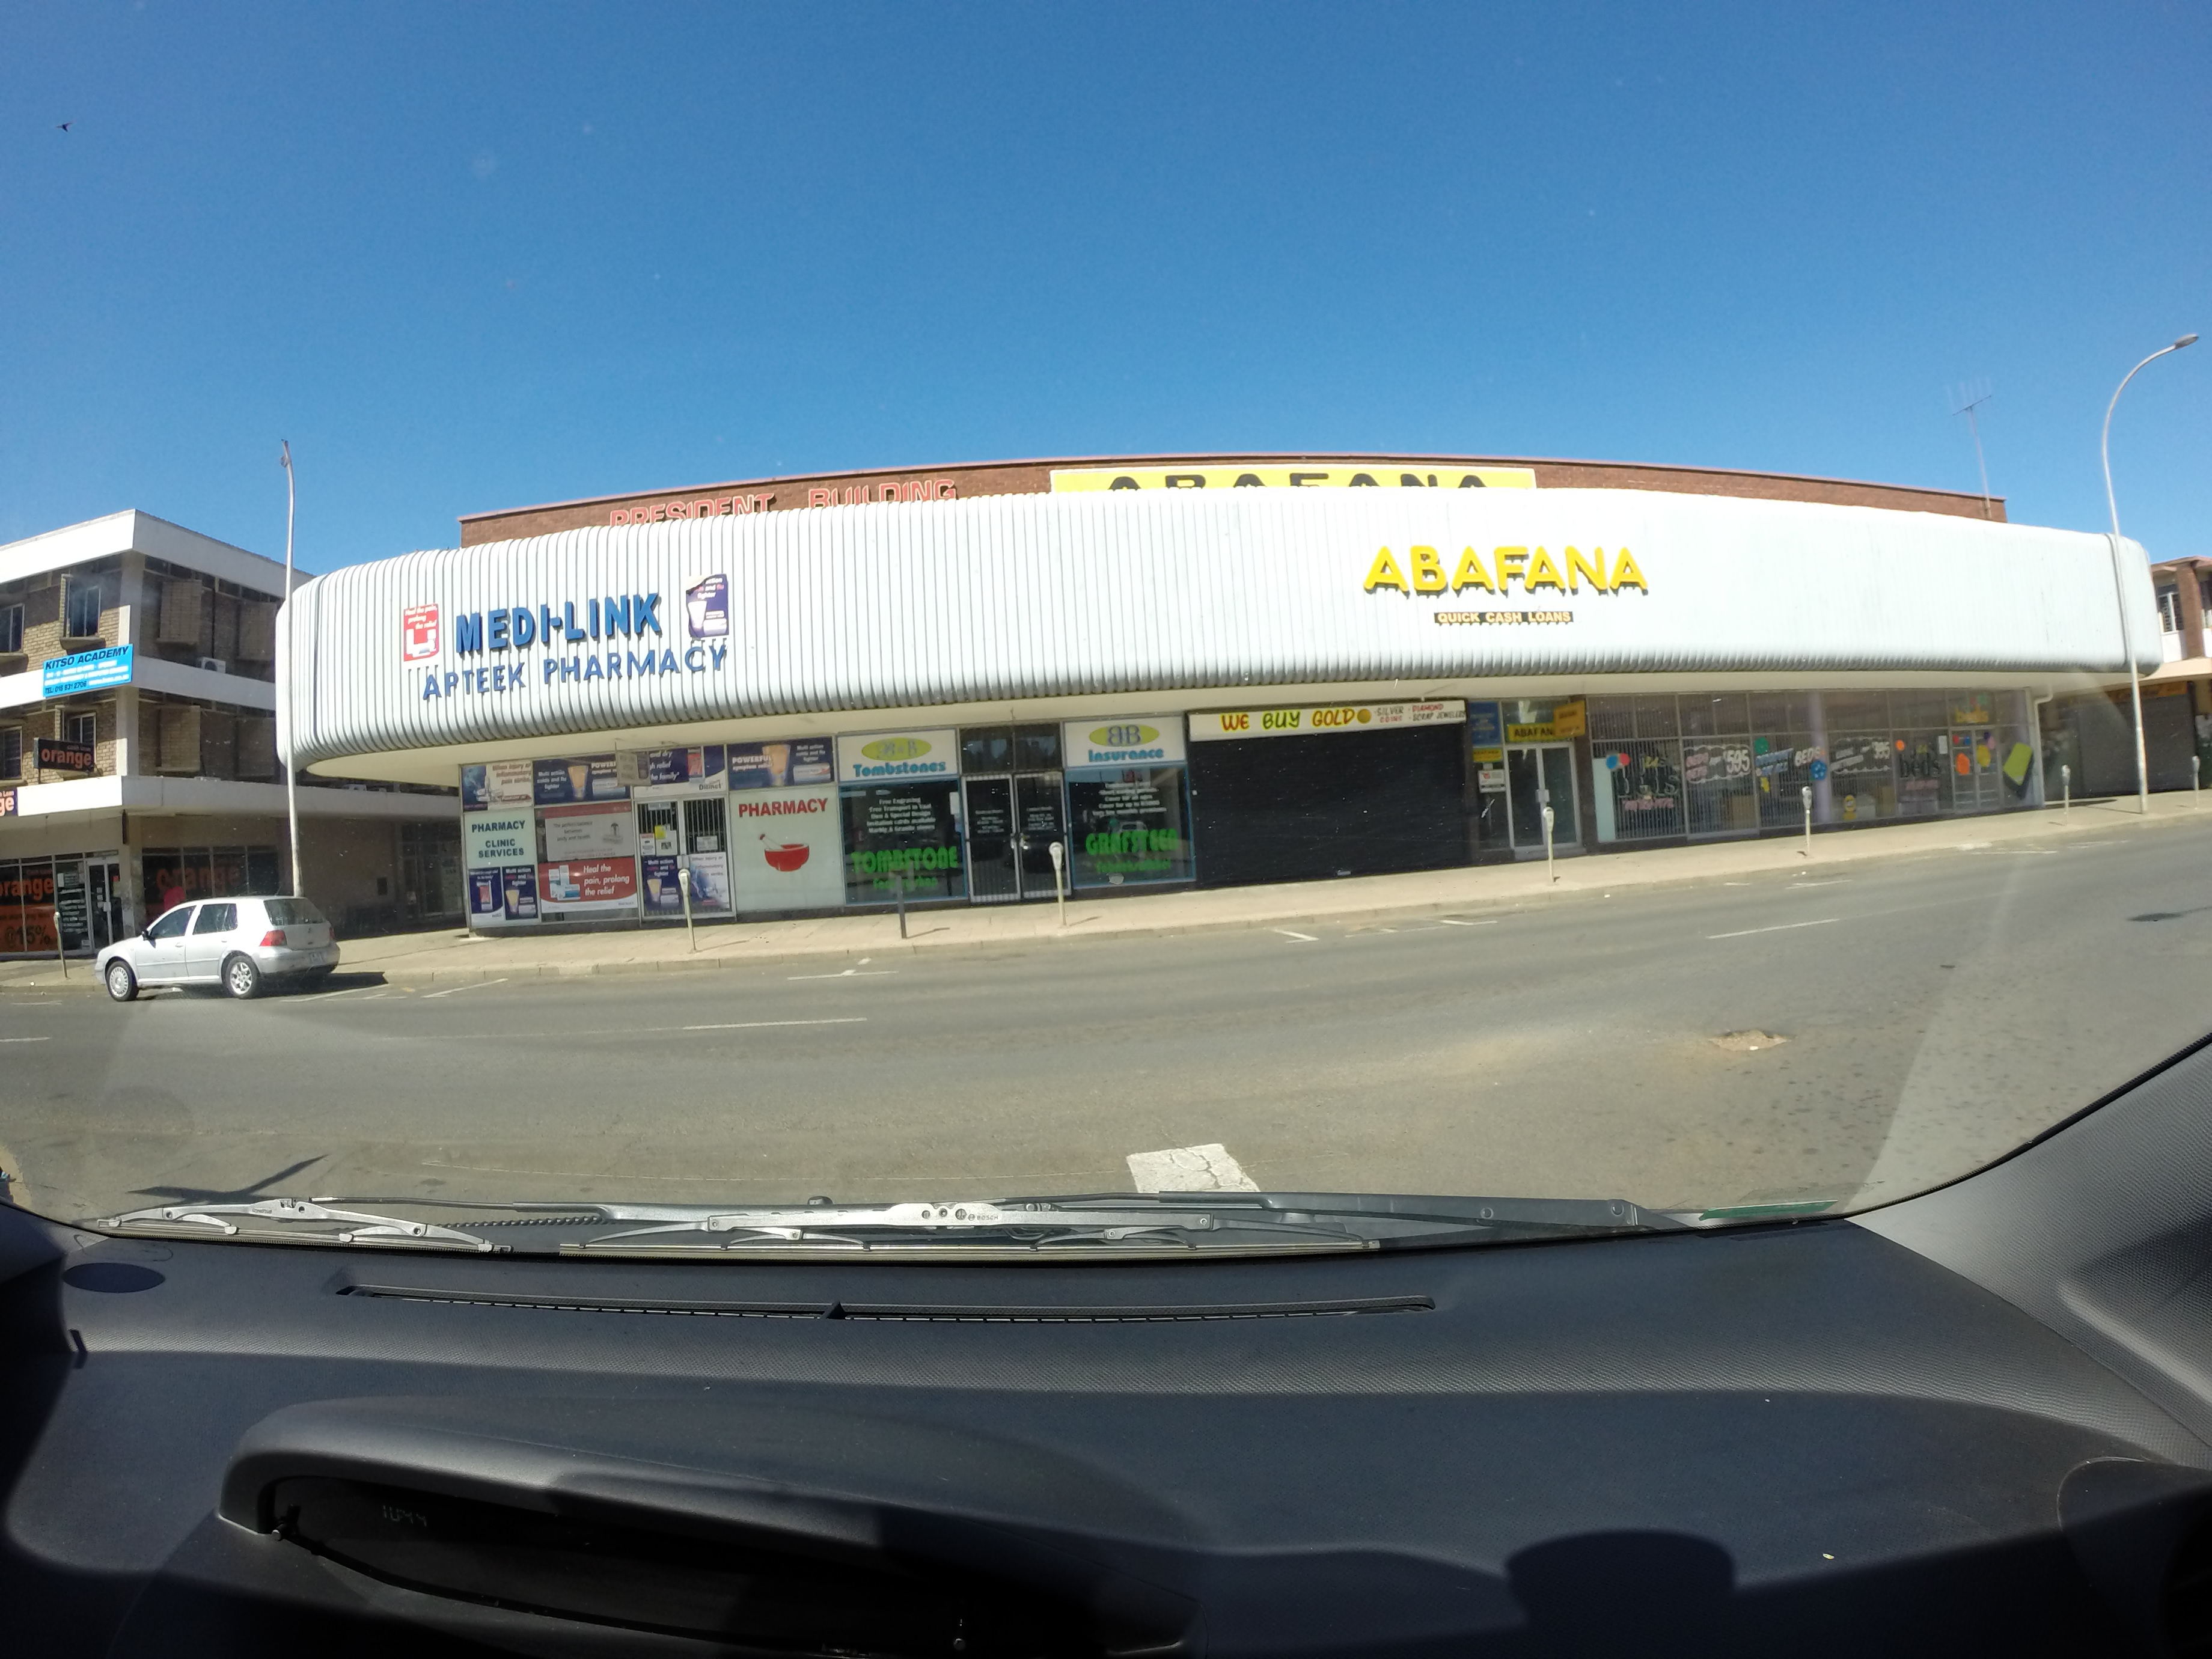pothole: (1583, 962, 1878, 1075)
